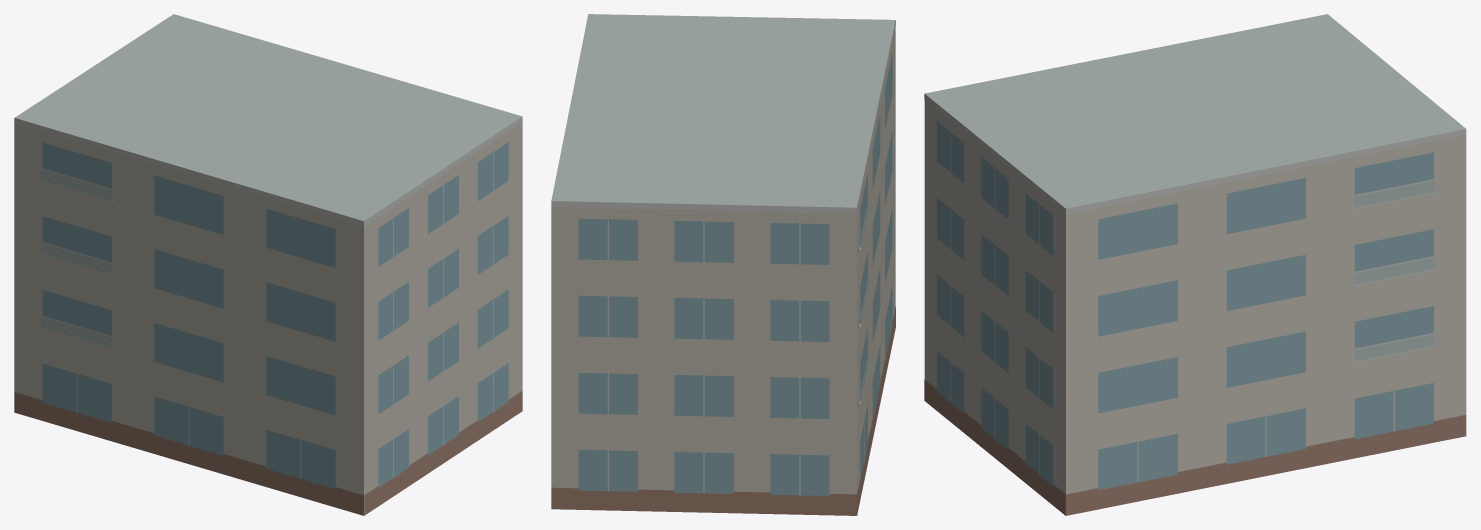
Rendered from survey-upis-32968890.glb.
3 views of the same model, side by side, from view 1: azimuth 30°, elevation 25°; view 2: azimuth 150°, elevation 25°; view 3: azimuth 270°, elevation 25° (orthographic). The views are drawn at different scales.
Visible parts, largest first — view 1: survey-upis-32968890.tmp; view 2: survey-upis-32968890.tmp; view 3: survey-upis-32968890.tmp.
Part boxes in pixels (x1=…): survey-upis-32968890.tmp: x1=14, y1=14, x2=522, y2=515; survey-upis-32968890.tmp: x1=551, y1=14, x2=895, y2=515; survey-upis-32968890.tmp: x1=924, y1=14, x2=1466, y2=515.
Bounding box in the file's own units: 17.94 × 13.2 × 21.1.
